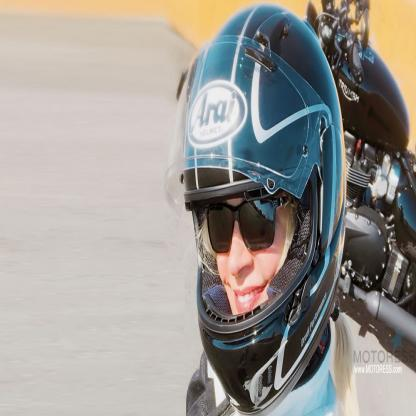helmet: (168, 4, 347, 416)
